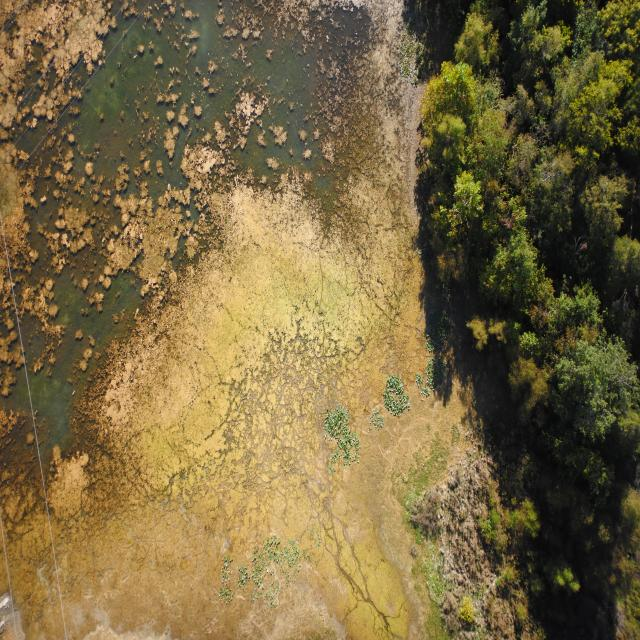Area of Interest: (428, 9, 632, 580)
